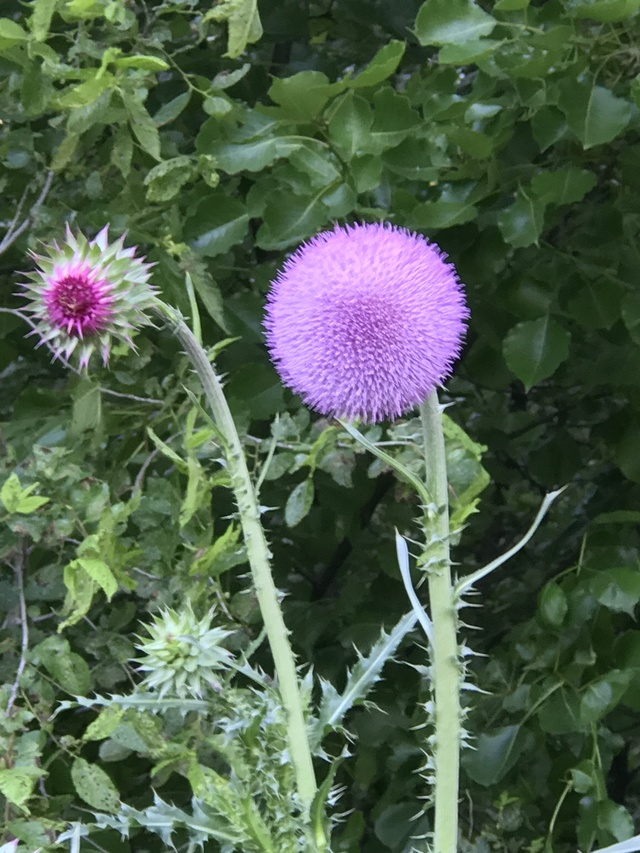thistle: (251, 222, 466, 428), (24, 225, 165, 373)
